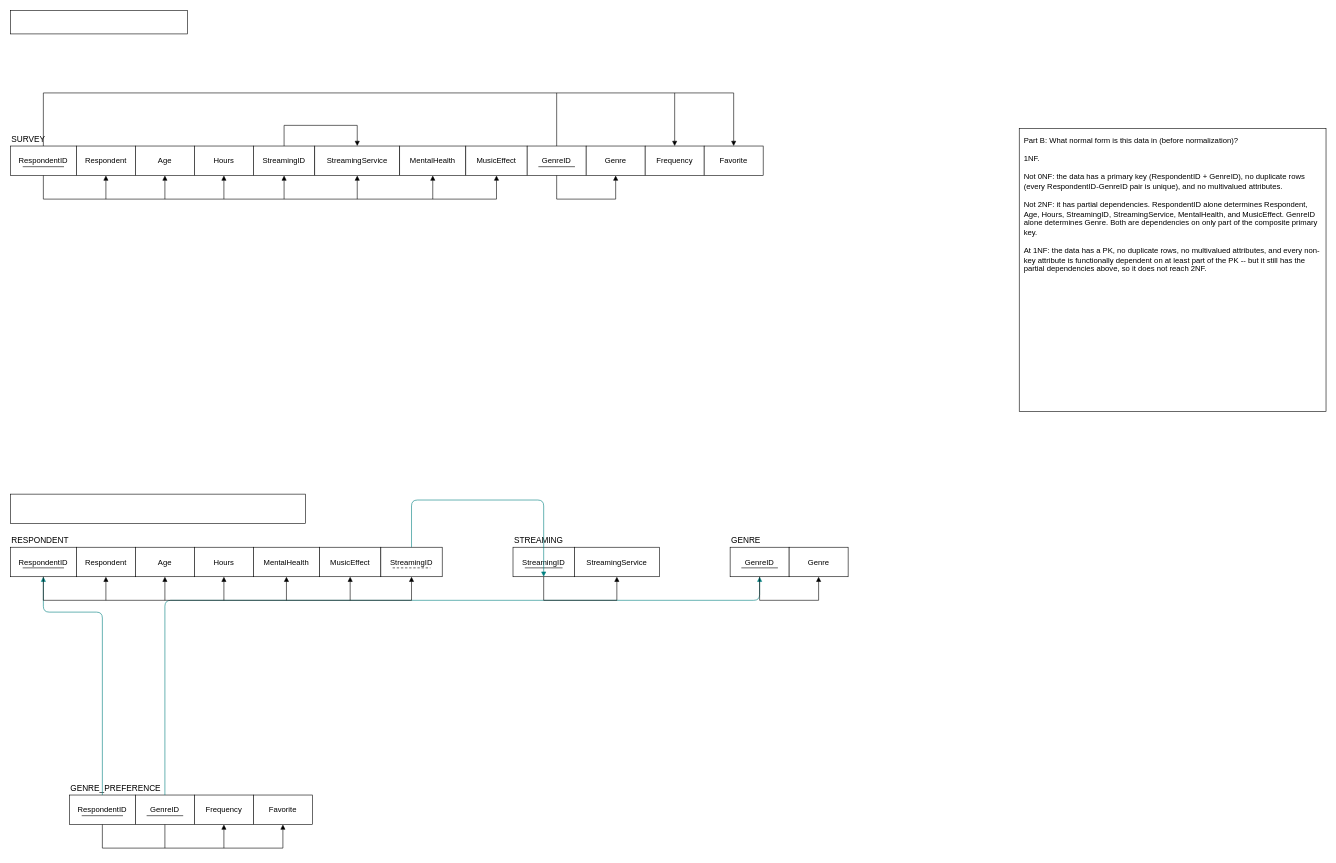
The diagram is 1336 pixels wide and 863 high, and some of its shapes have lost their labels. The shapes that lost their labels are listed below. From the top down, each one's centre as x and y in pixels, then its label:
the point at 98,22: Part A: single relation + dependencies
the point at 157,509: Part C: normalized 3NF schema (teal = relationships, black = dependencies)
